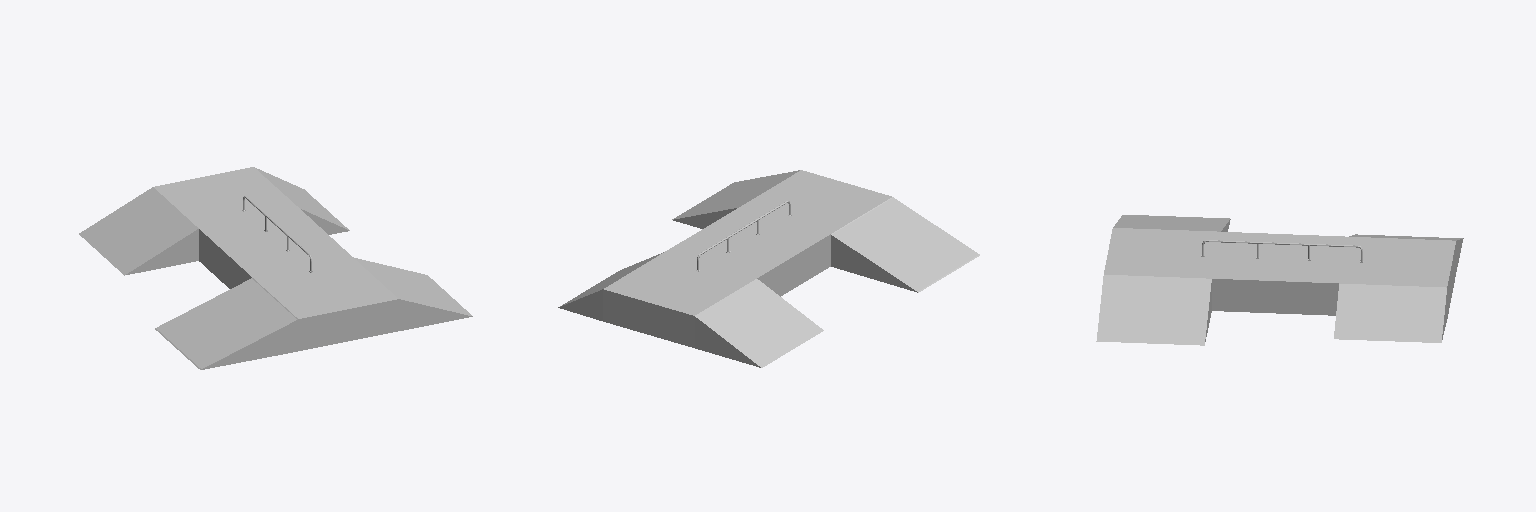
File: ramp02.obj
3 renders of one model, left to right at view 1: azimuth 30°, elevation 25°; view 2: azimuth 150°, elevation 25°; view 3: azimuth 270°, elevation 25°, orthographic.
Parts seen in each view (by area): view 1: Skate_Ramp_Fun_Box_04_Skate_Ramp; view 2: Skate_Ramp_Fun_Box_04_Skate_Ramp; view 3: Skate_Ramp_Fun_Box_04_Skate_Ramp.
Boxes of the visible parts, <box> form: Skate_Ramp_Fun_Box_04_Skate_Ramp: <box>79,167,472,369</box>; Skate_Ramp_Fun_Box_04_Skate_Ramp: <box>558,170,979,367</box>; Skate_Ramp_Fun_Box_04_Skate_Ramp: <box>1096,215,1463,345</box>.
Bounding box in the file's own units: 511 × 88.36 × 606.